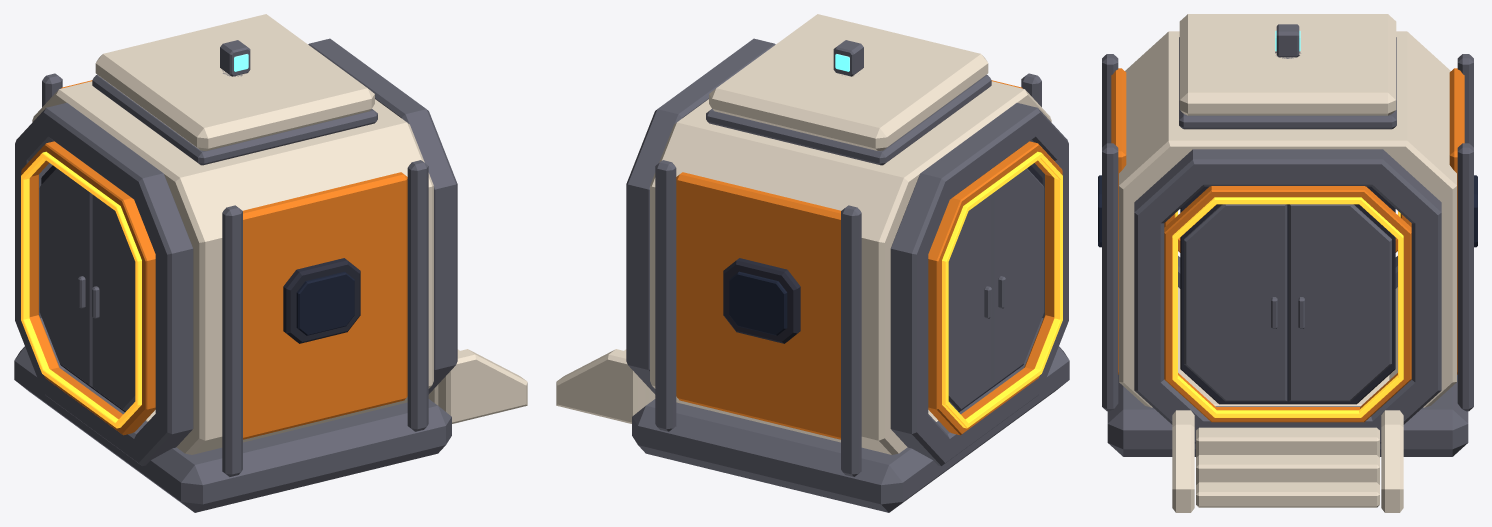
Rendered from asset.glb.
3 views of the same model, side by side, from view 1: azimuth 30°, elevation 25°; view 2: azimuth 150°, elevation 25°; view 3: azimuth 270°, elevation 25° (orthographic).
Parts seen in each view (by area): view 1: hab-airlock_accent-paint, hab-airlock_smooth-structure, hab-airlock_smooth-structure_structure-gray, Ivory roof service cap, inner_hatch_outer_octagonal_portal, inner_hatch_door_-1, outer_hatch_outer_octagonal_portal, inner_hatch_orange_recess, inner_hatch_door_1, inner_hatch_amber_outline, Roof dark collar, hab-airlock_visor (+2 smaller); view 2: hab-airlock_accent-paint, hab-airlock_smooth-structure, hab-airlock_smooth-structure_structure-gray, Ivory roof service cap, inner_hatch_outer_octagonal_portal, inner_hatch_door_1, outer_hatch_outer_octagonal_portal, inner_hatch_orange_recess, inner_hatch_door_-1, inner_hatch_amber_outline, Roof dark collar, hab-airlock_visor (+2 smaller); view 3: hab-airlock_smooth-structure, outer_hatch_outer_octagonal_portal, Ivory roof service cap, outer_hatch_door_-1, outer_hatch_door_1, hab-airlock_smooth-structure_structure-gray, outer_hatch_orange_recess, outer_hatch_amber_outline, Roof dark collar, hab-airlock_accent-paint, outer_hatch_recess, Airlock cyan beacon_smooth-structure_structure-gray (+2 smaller).
Part boxes in pixels (left/top/right/bottom): hab-airlock_accent-paint: left=61, top=80, right=407, bottom=439; hab-airlock_smooth-structure: left=32, top=81, right=527, bottom=454; hab-airlock_smooth-structure_structure-gray: left=14, top=73, right=451, bottom=512; Ivory roof service cap: left=95, top=14, right=374, bottom=150; inner_hatch_outer_octagonal_portal: left=15, top=103, right=193, bottom=466; inner_hatch_door_-1: left=39, top=168, right=92, bottom=386; outer_hatch_outer_octagonal_portal: left=308, top=38, right=457, bottom=394; inner_hatch_orange_recess: left=21, top=141, right=155, bottom=435; inner_hatch_door_1: left=92, top=195, right=135, bottom=410; inner_hatch_amber_outline: left=21, top=151, right=141, bottom=428; Roof dark collar: left=92, top=74, right=377, bottom=165; hab-airlock_visor: left=296, top=271, right=354, bottom=335; hab-airlock_accent-paint: left=676, top=80, right=1022, bottom=439; hab-airlock_smooth-structure: left=556, top=81, right=1051, bottom=454; hab-airlock_smooth-structure_structure-gray: left=632, top=73, right=1069, bottom=512; Ivory roof service cap: left=709, top=14, right=988, bottom=150; inner_hatch_outer_octagonal_portal: left=890, top=103, right=1068, bottom=466; inner_hatch_door_1: left=991, top=168, right=1044, bottom=386; outer_hatch_outer_octagonal_portal: left=626, top=38, right=775, bottom=394; inner_hatch_orange_recess: left=928, top=141, right=1062, bottom=435; inner_hatch_door_-1: left=948, top=195, right=991, bottom=410; inner_hatch_amber_outline: left=942, top=151, right=1062, bottom=428; Roof dark collar: left=706, top=74, right=991, bottom=165; hab-airlock_visor: left=729, top=271, right=787, bottom=335; hab-airlock_smooth-structure: left=1119, top=31, right=1456, bottom=512; outer_hatch_outer_octagonal_portal: left=1134, top=149, right=1441, bottom=443; Ivory roof service cap: left=1179, top=14, right=1396, bottom=115; outer_hatch_door_-1: left=1288, top=204, right=1391, bottom=401; outer_hatch_door_1: left=1184, top=204, right=1287, bottom=401; hab-airlock_smooth-structure_structure-gray: left=1102, top=54, right=1473, bottom=456; outer_hatch_orange_recess: left=1164, top=186, right=1411, bottom=422; outer_hatch_amber_outline: left=1172, top=197, right=1403, bottom=417; Roof dark collar: left=1179, top=37, right=1396, bottom=129; hab-airlock_accent-paint: left=1111, top=68, right=1464, bottom=374; outer_hatch_recess: left=1180, top=204, right=1395, bottom=404; Airlock cyan beacon_smooth-structure_structure-gray: left=1275, top=24, right=1300, bottom=58.
Size of the model in its own units: 3.59 by 3.3 by 3.06.
